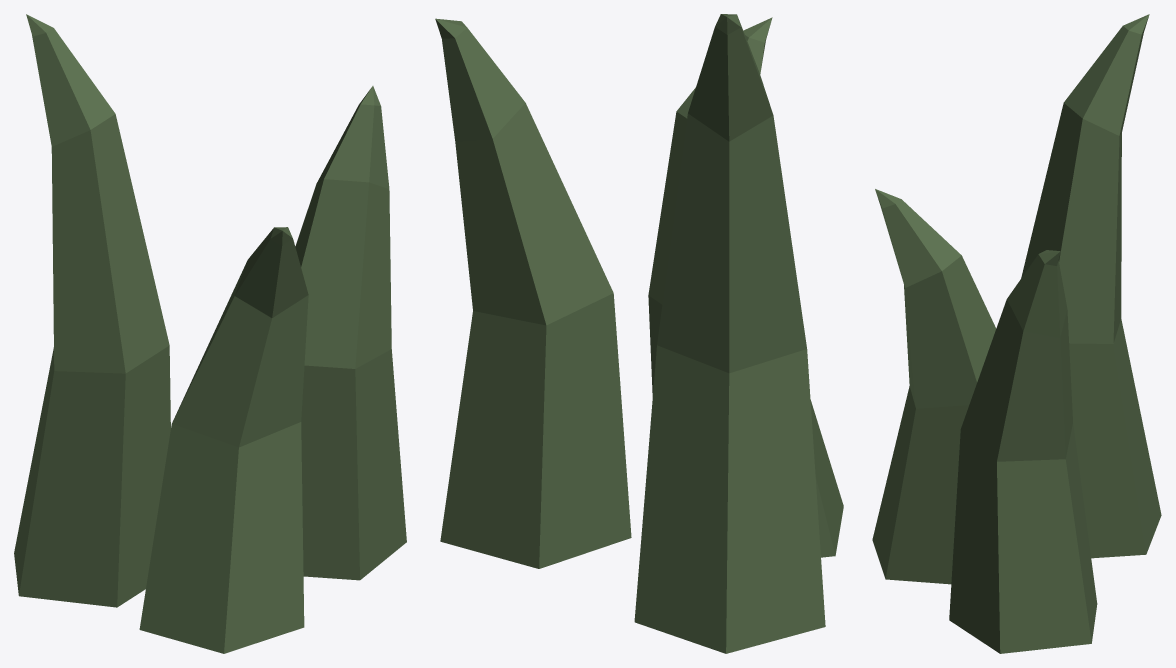
Rendered from Trawa_3.fbx.
The picture shows the model from 3 angles, left to right: view 1: azimuth 30°, elevation 25°; view 2: azimuth 150°, elevation 25°; view 3: azimuth 270°, elevation 25°; orthographic projection. The views are drawn at different scales.
Parts seen in each view (by area): view 1: Cylinder.001; view 2: Cylinder.001; view 3: Cylinder.001.
Part boxes in pixels (bbox=[...]): Cylinder.001: bbox=[14, 14, 406, 653]; Cylinder.001: bbox=[435, 14, 843, 653]; Cylinder.001: bbox=[872, 14, 1161, 653].
Bounding box in the file's own units: 12.98 × 19.42 × 10.1.
